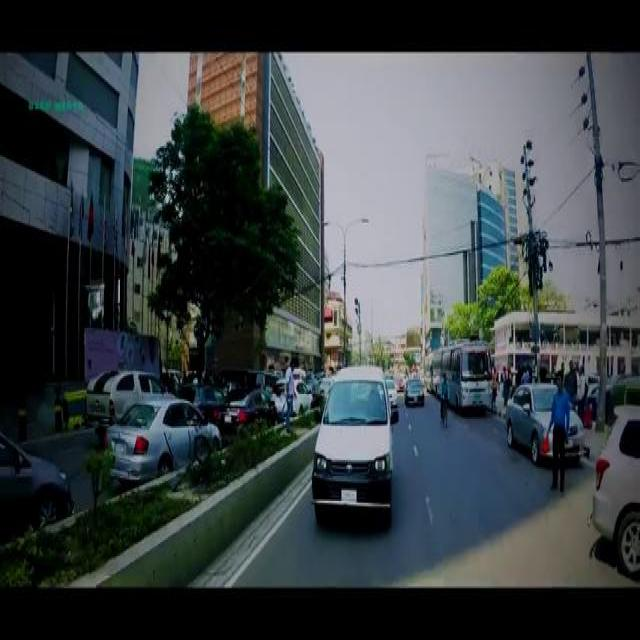15: (84, 369, 170, 421)
5: (102, 398, 220, 477), (587, 402, 639, 571), (0, 429, 73, 525), (504, 381, 586, 459), (212, 390, 278, 432), (268, 376, 312, 408), (404, 375, 424, 404)
9: (310, 364, 392, 518)
Motorcycle: (438, 394, 448, 424)
Truck: (438, 337, 492, 410)
